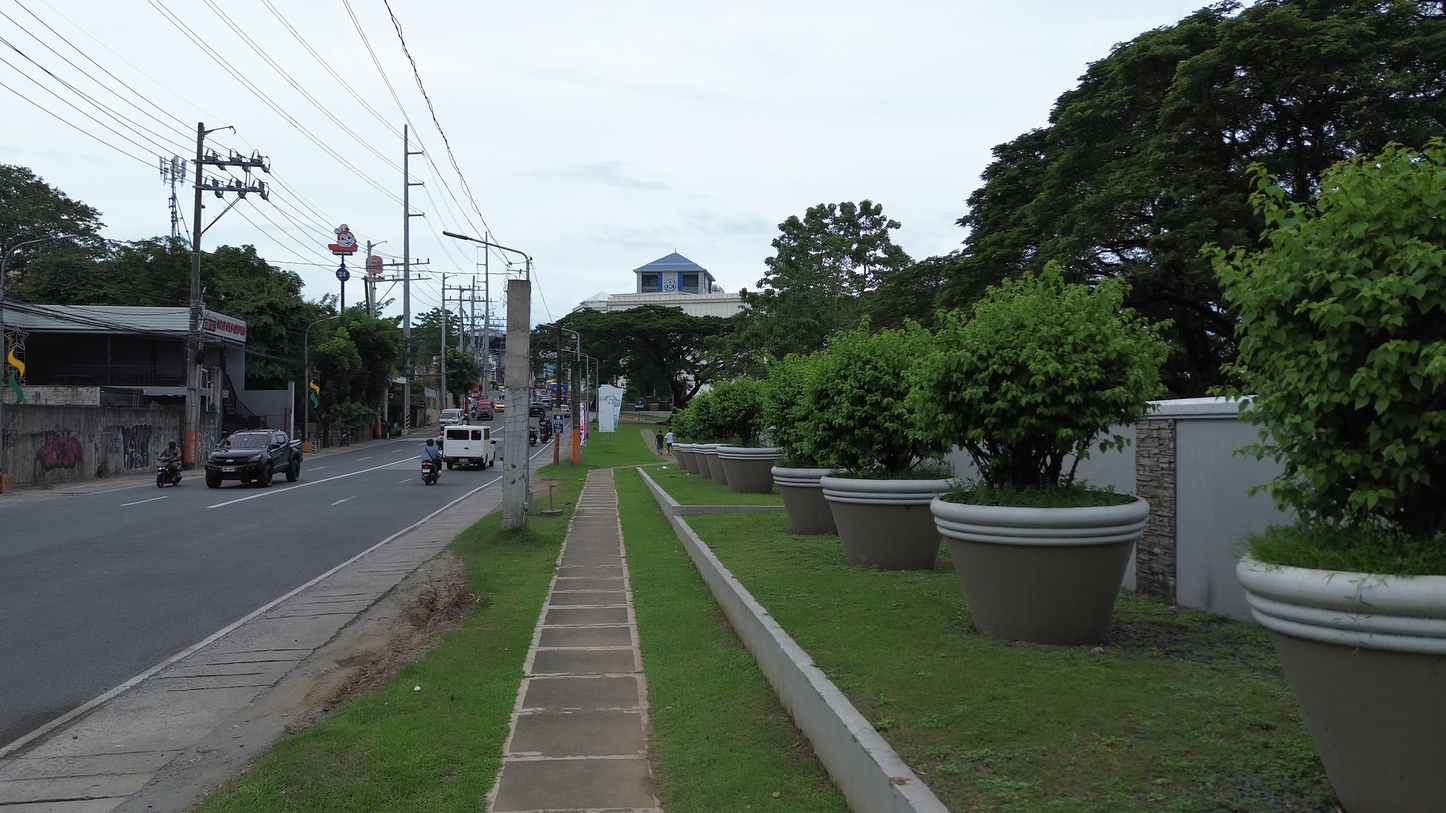motorcycle: (156, 463, 181, 487), (421, 460, 439, 486), (339, 428, 351, 446), (529, 426, 538, 446)
vehicle: (205, 429, 302, 488), (443, 426, 495, 469), (157, 461, 181, 486), (439, 408, 465, 426), (474, 400, 495, 420), (529, 402, 547, 418), (494, 401, 505, 412)
